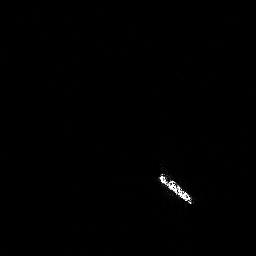ship: (154, 169, 196, 207)
